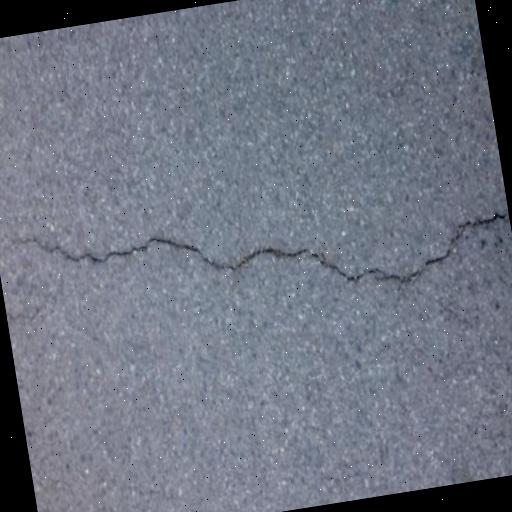spalling: (10, 184, 498, 289)
